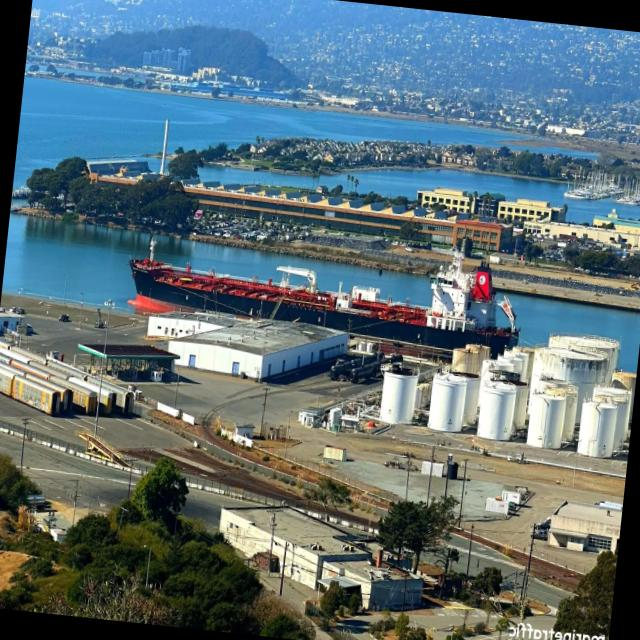Tanker: (130, 246, 519, 350)
